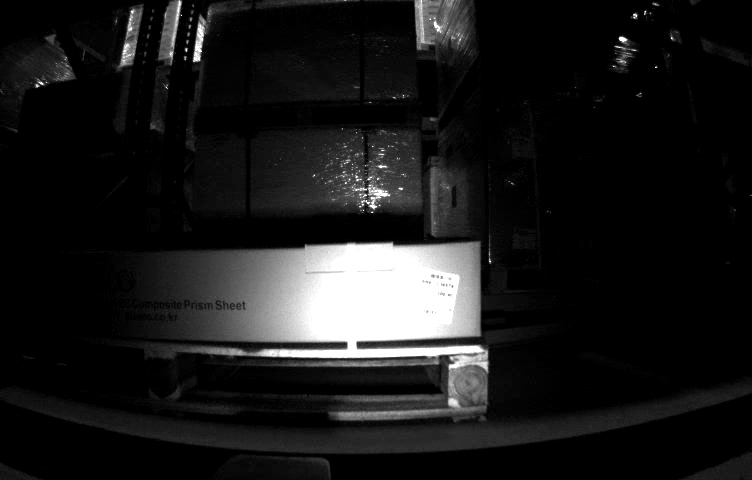True Barcode: (401, 267, 460, 322)
